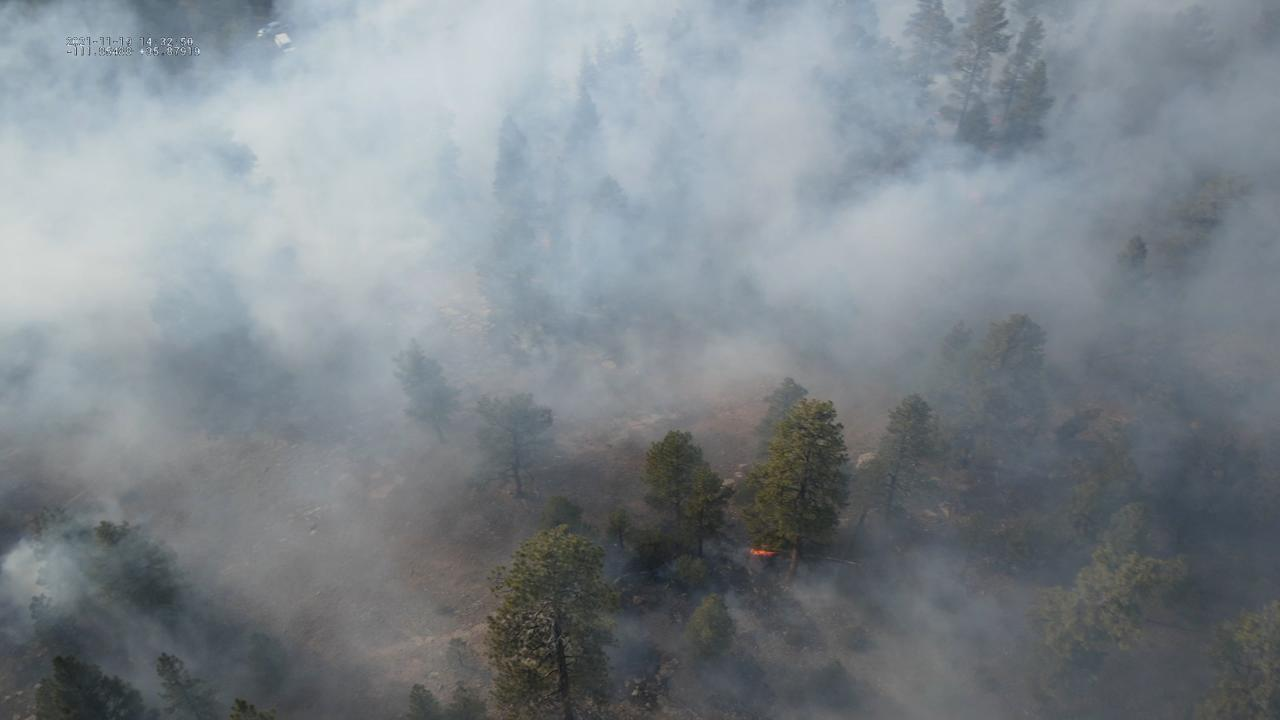fire: (749, 548, 782, 558)
smoke: (0, 0, 1280, 720)
